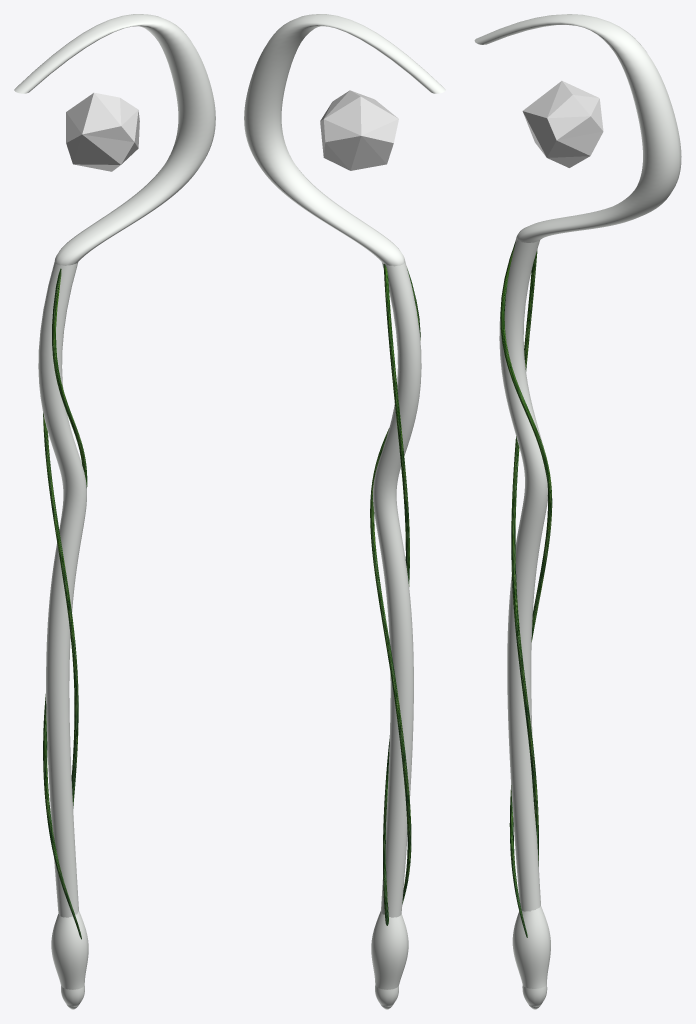
Rendered from Staff Wand.fbx.
The picture shows the model from 3 angles, left to right: view 1: azimuth 30°, elevation 25°; view 2: azimuth 150°, elevation 25°; view 3: azimuth 330°, elevation 25°; orthographic projection. The views are drawn at different scales.
Parts seen in each view (by area): view 1: NurbsPath.003, NurbsPath, Icosphere, NurbsPath.004, NurbsPath.002, NurbsPath.001; view 2: NurbsPath.003, NurbsPath, Icosphere, NurbsPath.004, NurbsPath.002, NurbsPath.001; view 3: NurbsPath.003, NurbsPath, Icosphere, NurbsPath.004, NurbsPath.001, NurbsPath.002.
Boxes of the visible parts, x1=… form: NurbsPath.003: x1=38, y1=262, x2=86, y2=1009; NurbsPath: x1=14, y1=14, x2=215, y2=265; Icosphere: x1=66, y1=92, x2=139, y2=171; NurbsPath.004: x1=51, y1=911, x2=88, y2=989; NurbsPath.002: x1=43, y1=268, x2=87, y2=939; NurbsPath.001: x1=43, y1=413, x2=78, y2=808; NurbsPath.003: x1=373, y1=262, x2=421, y2=1009; NurbsPath: x1=244, y1=14, x2=445, y2=266; Icosphere: x1=320, y1=90, x2=398, y2=170; NurbsPath.004: x1=371, y1=911, x2=408, y2=989; NurbsPath.002: x1=370, y1=268, x2=420, y2=904; NurbsPath.001: x1=383, y1=264, x2=409, y2=925; NurbsPath.003: x1=499, y1=238, x2=547, y2=1009; NurbsPath: x1=474, y1=14, x2=681, y2=242; Icosphere: x1=522, y1=81, x2=603, y2=167; NurbsPath.004: x1=512, y1=906, x2=550, y2=988; NurbsPath.001: x1=511, y1=250, x2=538, y2=866; NurbsPath.002: x1=500, y1=242, x2=552, y2=937.
Bounding box in the file's own units: 57.93 × 273 × 20.52.
